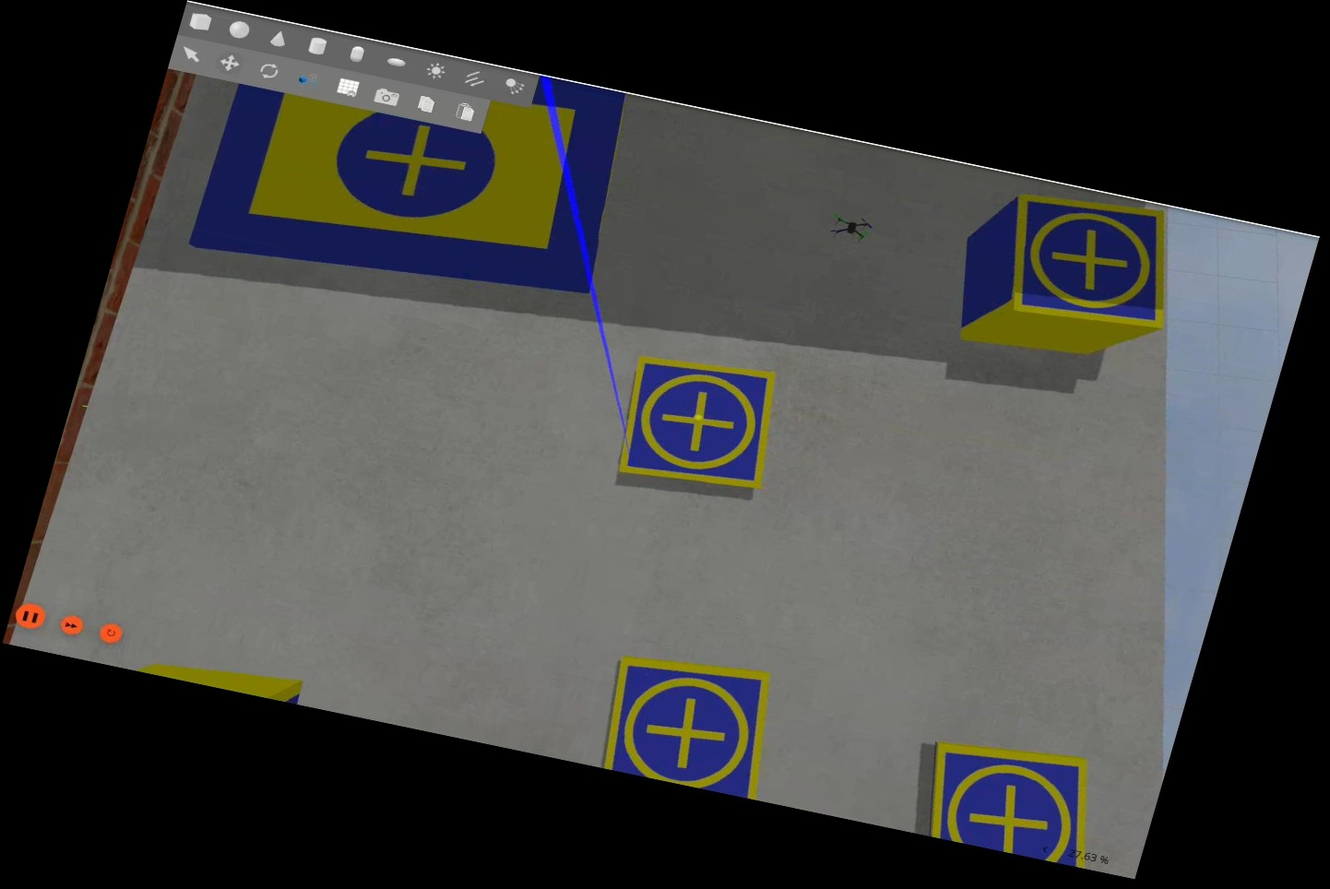large_base: (187, 14, 648, 328)
small_base: (983, 180, 1198, 342), (588, 640, 790, 800), (600, 342, 793, 506), (911, 728, 1117, 871)
